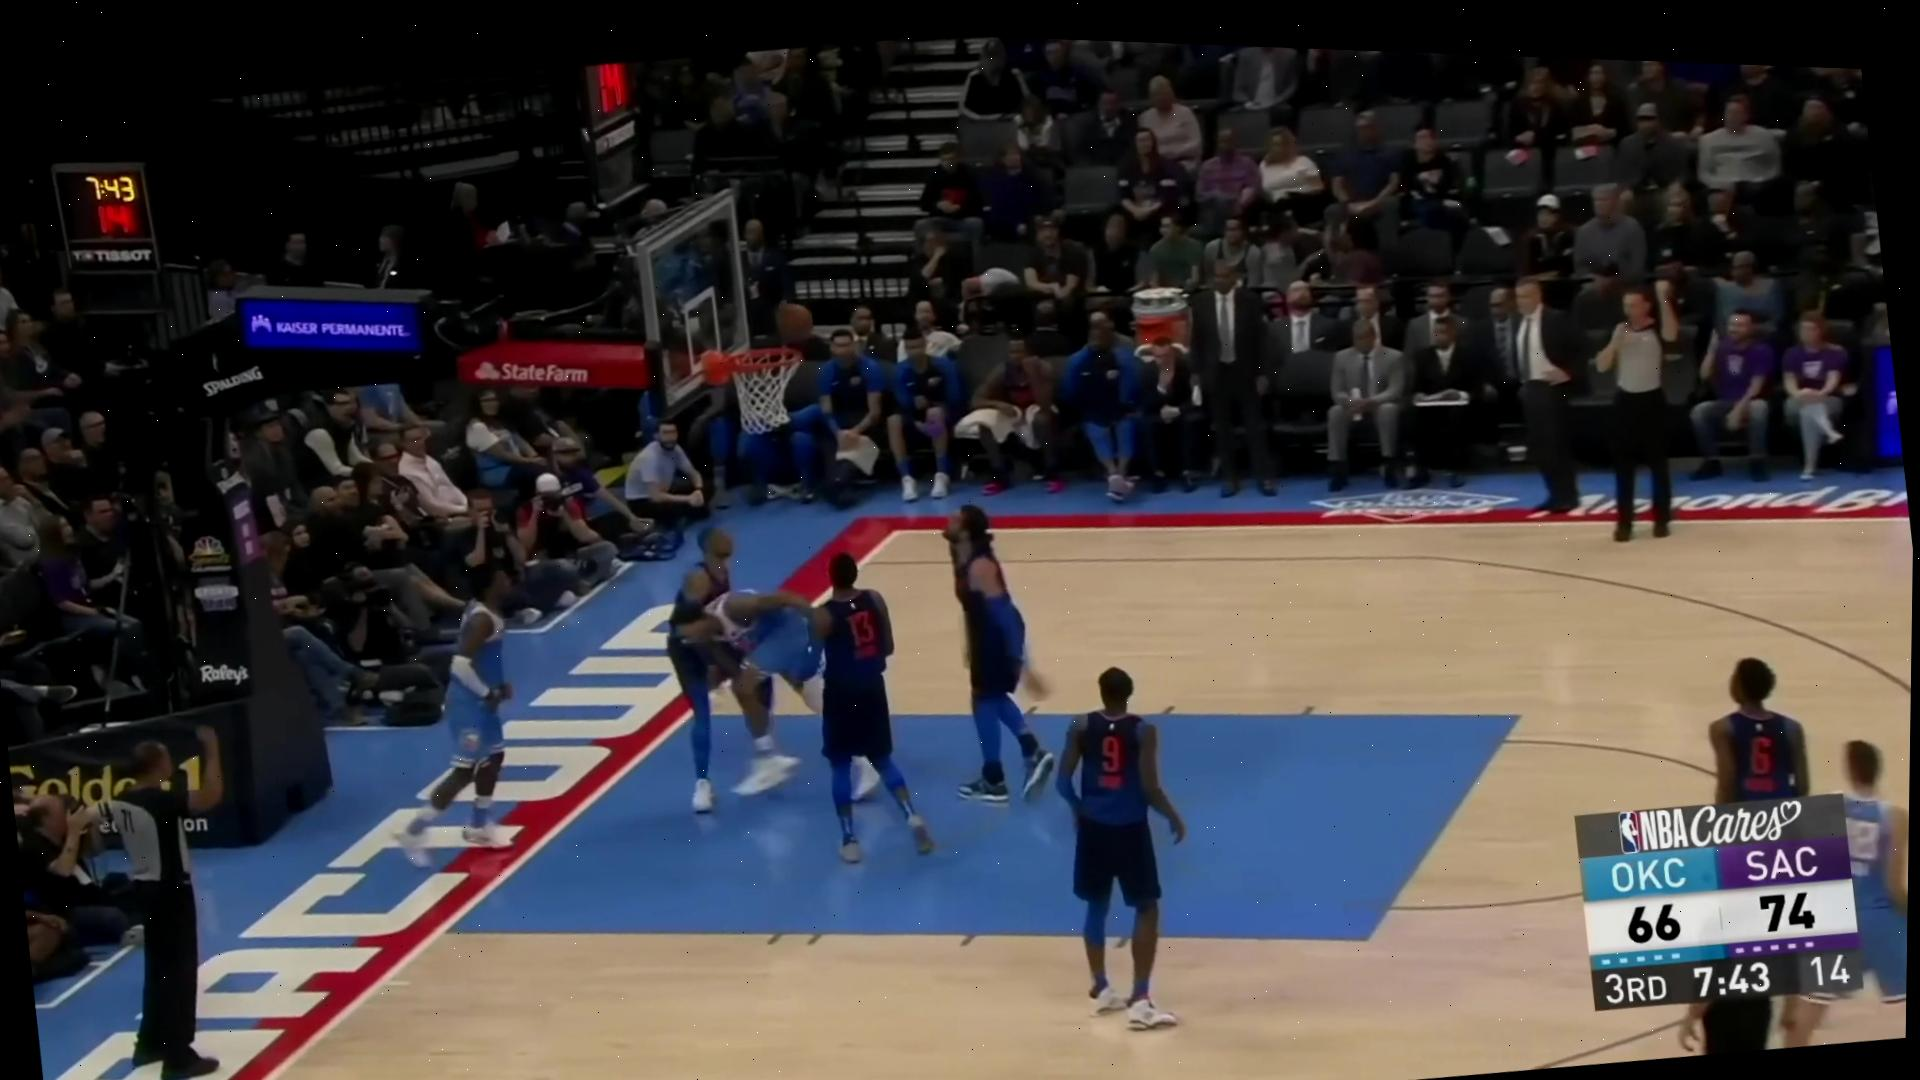foul: (625, 509, 882, 839)
